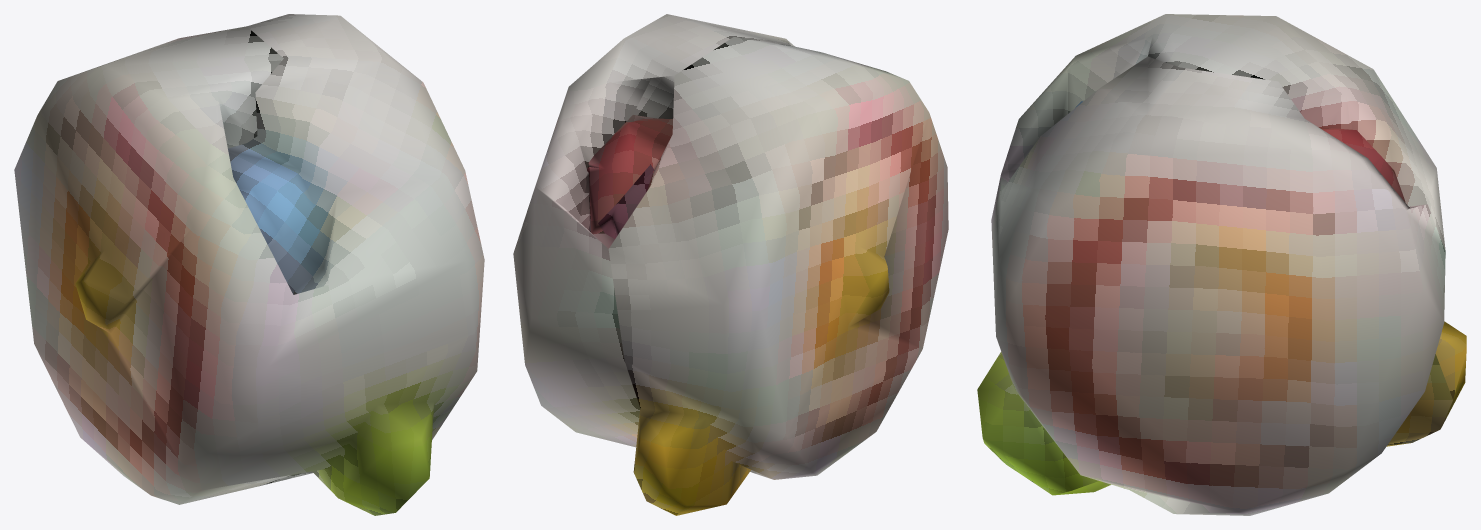
File: PEEKABOO_ROLLER-low.glb
3 renders of one model, left to right at view 1: azimuth 30°, elevation 25°; view 2: azimuth 150°, elevation 25°; view 3: azimuth 270°, elevation 25°, orthographic. The views are drawn at different scales.
Visible parts, largest first — view 1: PEEKABOO_ROLLER; view 2: PEEKABOO_ROLLER; view 3: PEEKABOO_ROLLER.
Boxes of the visible parts, <box> form: PEEKABOO_ROLLER: <box>14,14,484,515</box>; PEEKABOO_ROLLER: <box>513,14,948,515</box>; PEEKABOO_ROLLER: <box>977,14,1466,515</box>.
Size of the model in its own units: 0.0433 by 0.0579 by 0.0627.
Materials: 1 (1 with a texture image).
